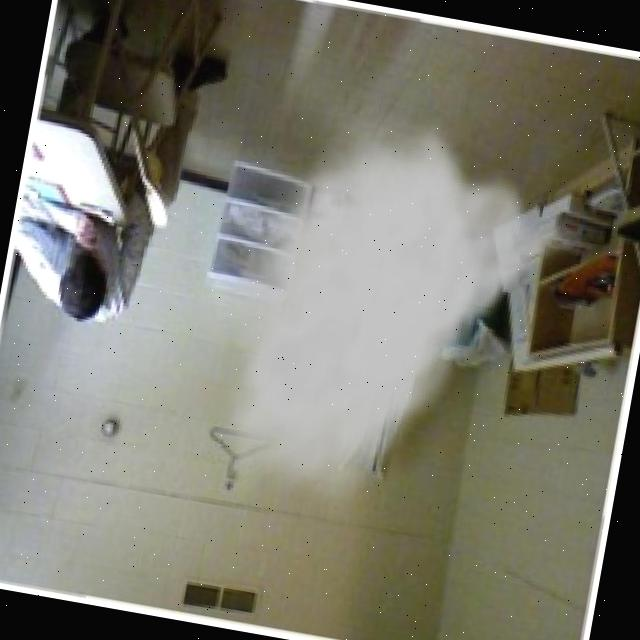smoke: (190, 81, 609, 561)
